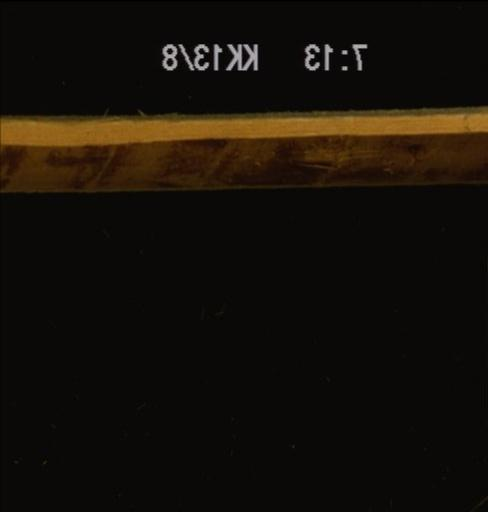wave: (0, 125, 486, 189)
